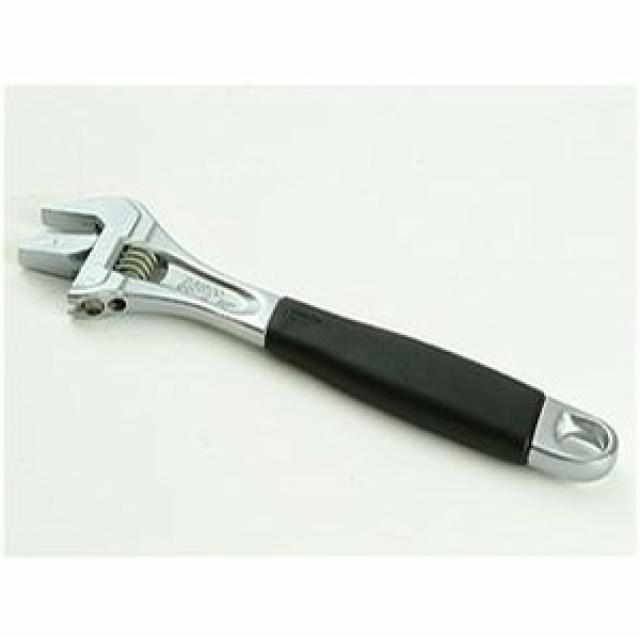wrench: (6, 144, 639, 533)
